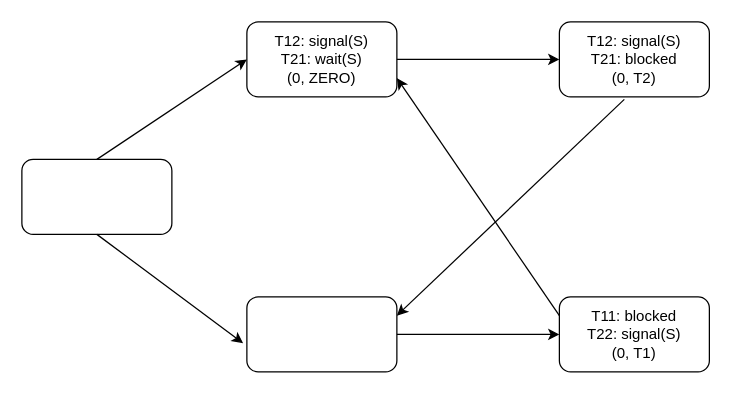
This 731x394 diagram has some shape labels left out. Here are the shapes that lost their labels. From the top down, the centre of each, then its label:
At point (96, 196): "T11: wait(S) T21: wait(S) (1, ZERO)".
At point (321, 334): "T11: wait(S) T22: signal(S) (0, ZERO)".
